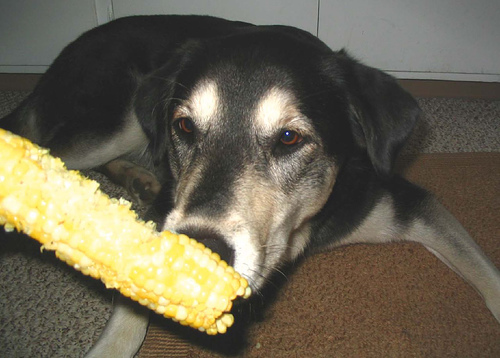corn: (0, 128, 252, 336)
